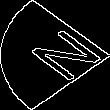N_SE: (10, 23, 100, 87)
